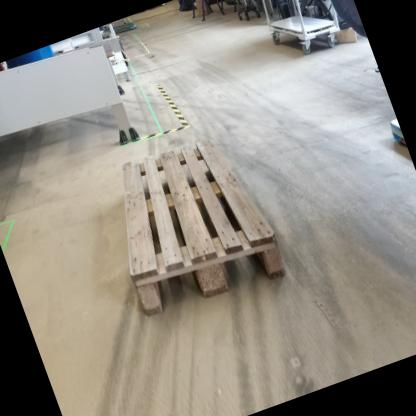BoxFace: (117, 129, 293, 327)
